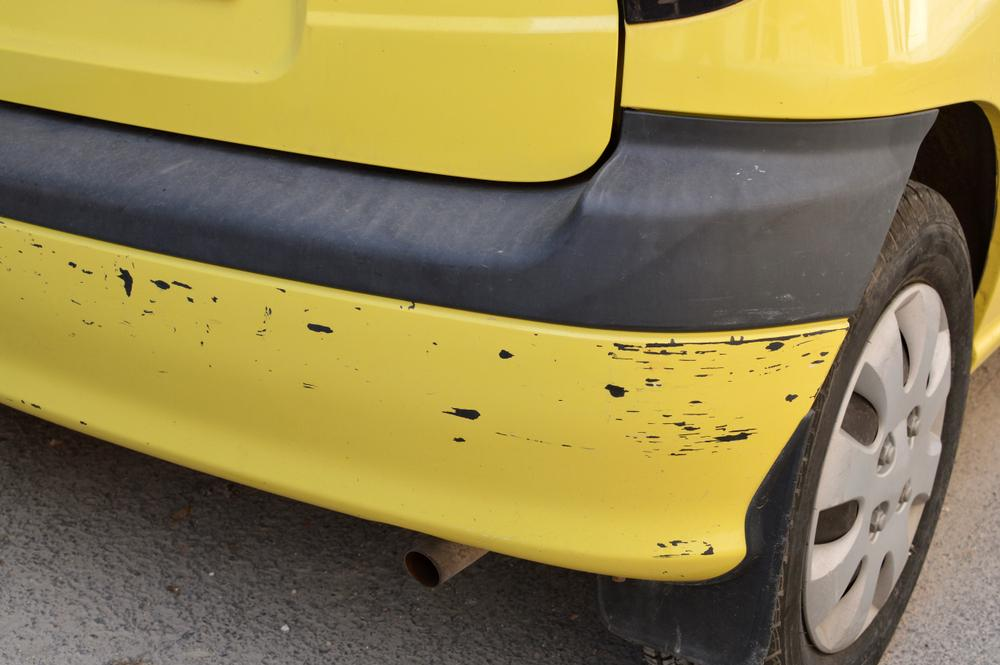scratch: (0, 221, 851, 458), (647, 536, 717, 561)
